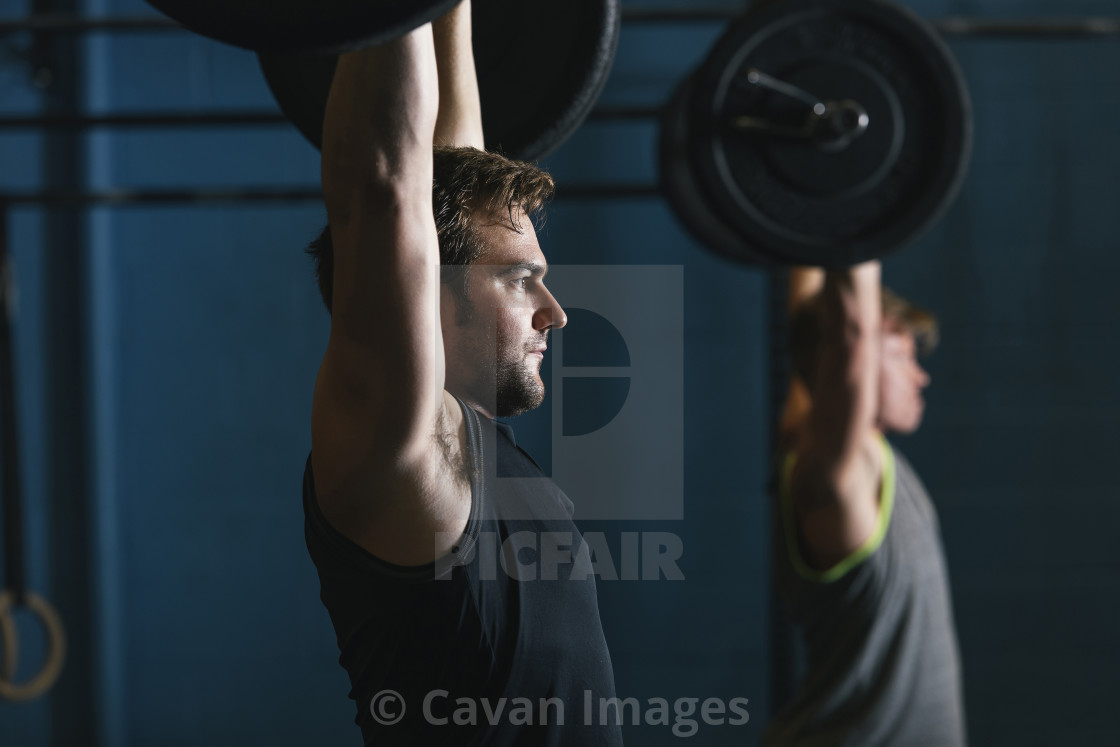barbell: (690, 1, 978, 271)
